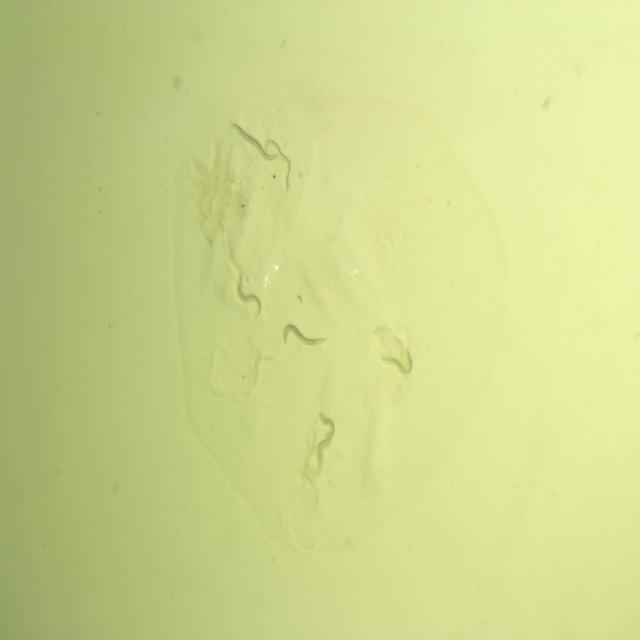worm: (226, 118, 280, 164), (279, 318, 329, 360), (262, 135, 296, 195), (232, 271, 267, 323), (374, 343, 419, 383), (310, 410, 338, 462)
